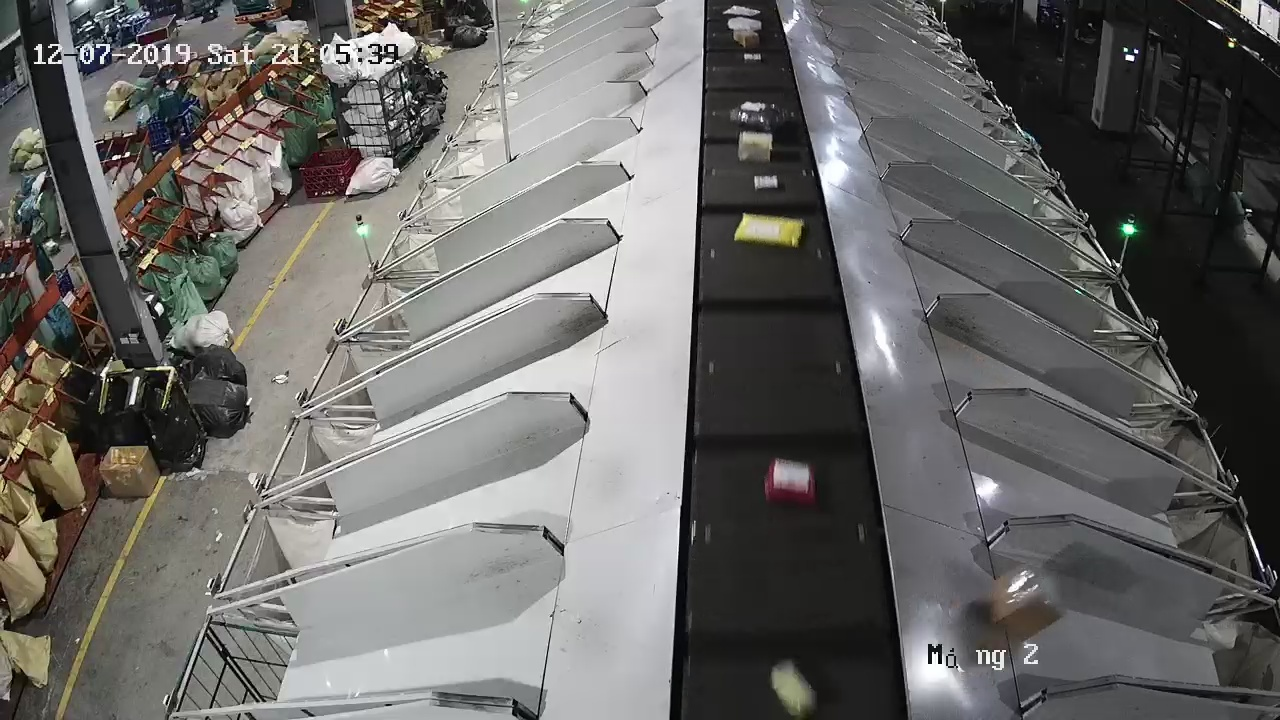parcel: (988, 562, 1065, 642)
